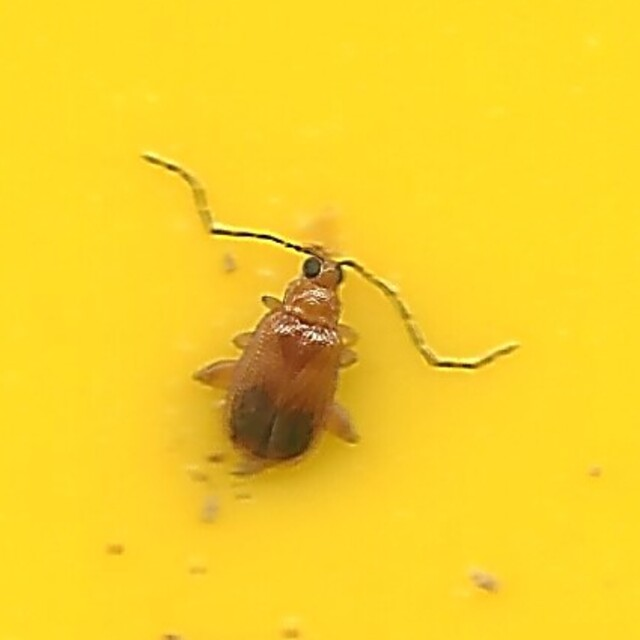Coleoptera: (151, 158, 489, 482)
